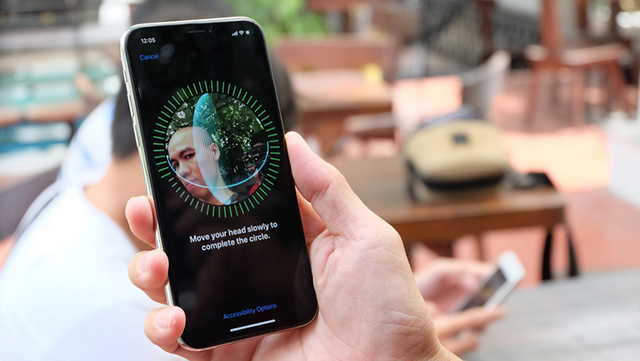iphone: (112, 17, 327, 353)
iphone10: (112, 17, 327, 353)
